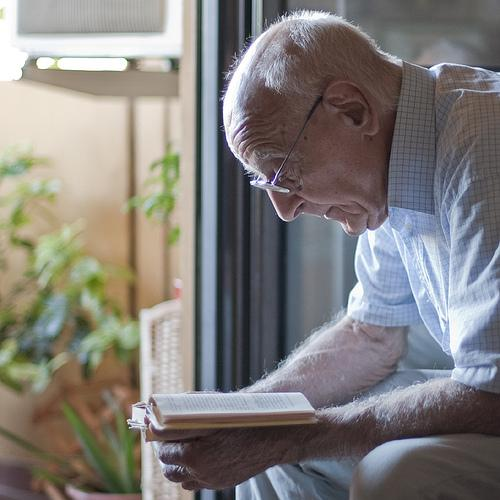person: (137, 11, 500, 500)
